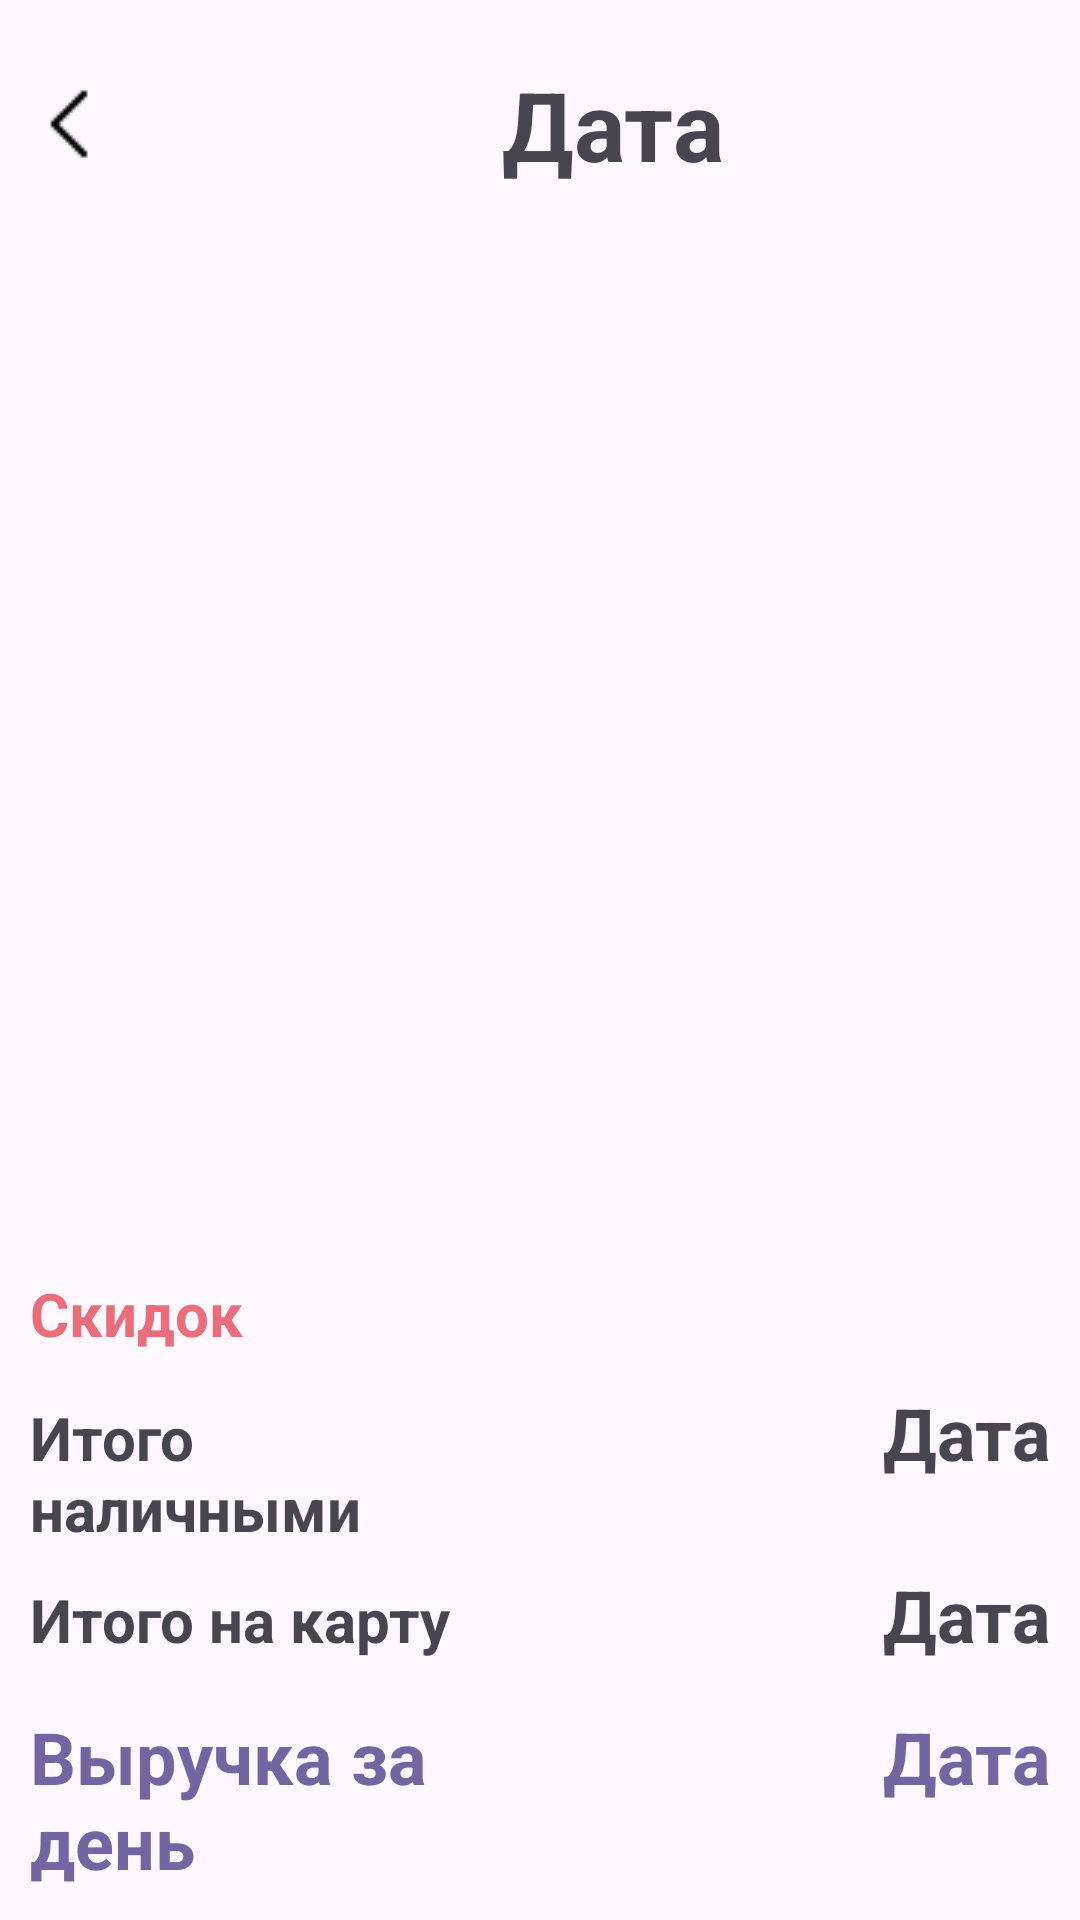

Named icons in this screenshot (1080×1920) and their centers, [x,y]:
back: [69,124]
